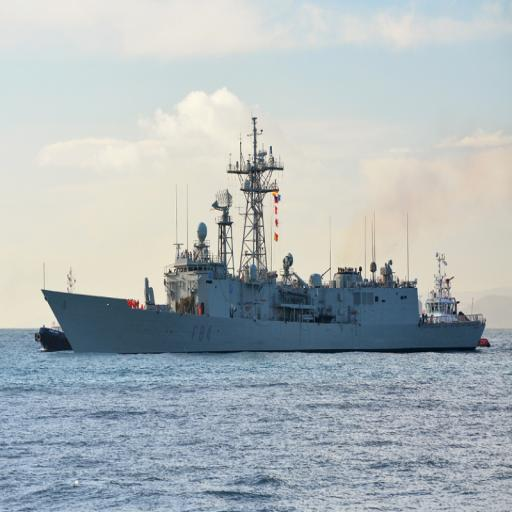Fragata: (40, 106, 487, 357)
